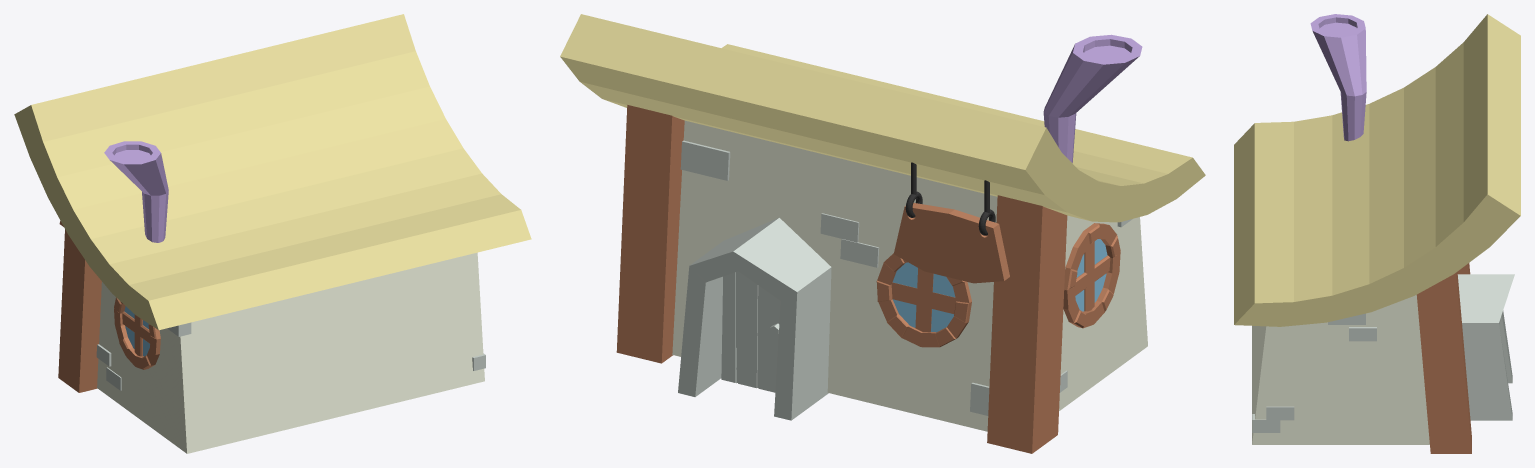
File: NPC 1_G.fbx
3 renders of one model, left to right at view 1: azimuth 30°, elevation 25°; view 2: azimuth 150°, elevation 25°; view 3: azimuth 270°, elevation 25°, orthographic. The views are drawn at different scales.
Parts seen in each view (by area): view 1: Arc; view 2: Arc, Polygon.002, Lock, Polygon.001; view 3: Arc, Polygon.002, Polygon.001.
Part boxes in pixels (left/top/right/bottom): Arc: left=14, top=14, right=531, bottom=453; Arc: left=560, top=14, right=1205, bottom=453; Polygon.002: left=678, top=219, right=831, bottom=420; Lock: left=721, top=271, right=780, bottom=392; Polygon.001: left=697, top=217, right=831, bottom=387; Arc: left=1234, top=14, right=1520, bottom=453; Polygon.002: left=1458, top=274, right=1514, bottom=420; Polygon.001: left=1457, top=274, right=1498, bottom=420.
Bounding box in the file's own units: 796 × 557 × 535.
